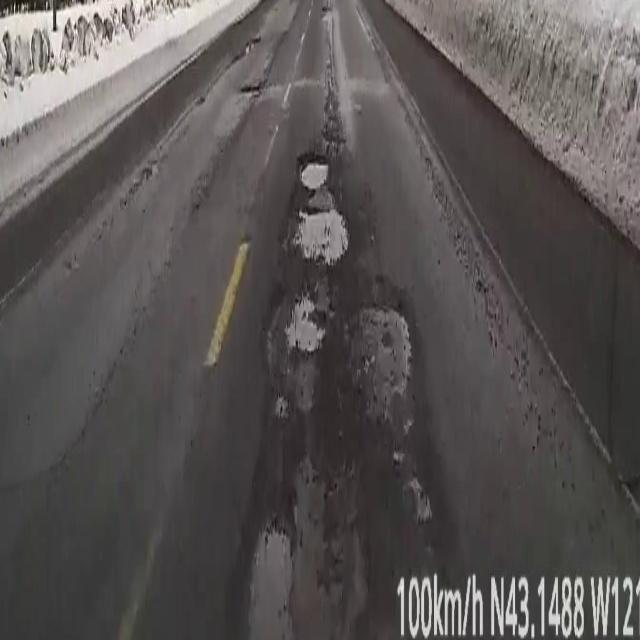pothole: (360, 308, 410, 418), (295, 162, 348, 264), (247, 514, 291, 634), (286, 294, 324, 352)
